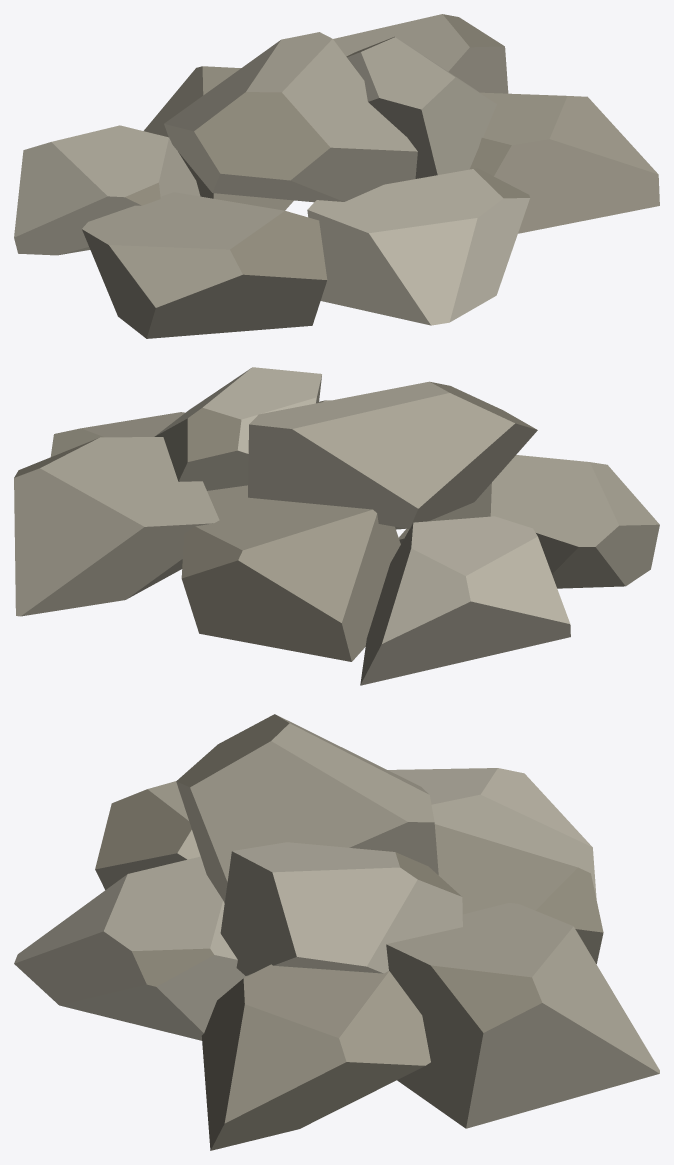
File: 舱里-压舱石.glb
3 views of the same model, one above another, from view 1: azimuth 30°, elevation 25°; view 2: azimuth 150°, elevation 25°; view 3: azimuth 270°, elevation 25° (orthographic). The views are drawn at different scales.
Visible parts, largest first — view 1: matte_ballast; view 2: matte_ballast; view 3: matte_ballast.
Part boxes in pixels (x1=…): matte_ballast: x1=14, y1=14, x2=659, y2=338; matte_ballast: x1=14, y1=367, x2=659, y2=685; matte_ballast: x1=14, y1=714, x2=659, y2=1150.
Size of the model in its own units: 0.9677 by 0.3 by 0.8295.
1 material, 1 textured.
